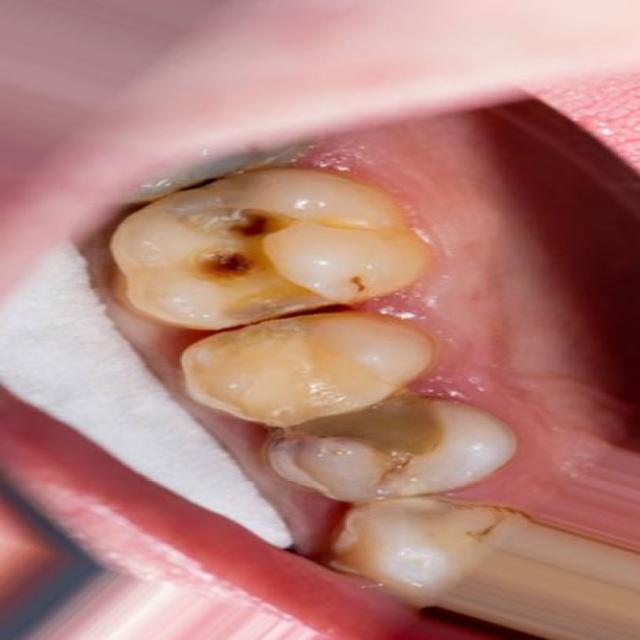caries: (173, 308, 383, 414), (244, 394, 454, 484), (176, 241, 278, 295), (205, 196, 294, 241)
